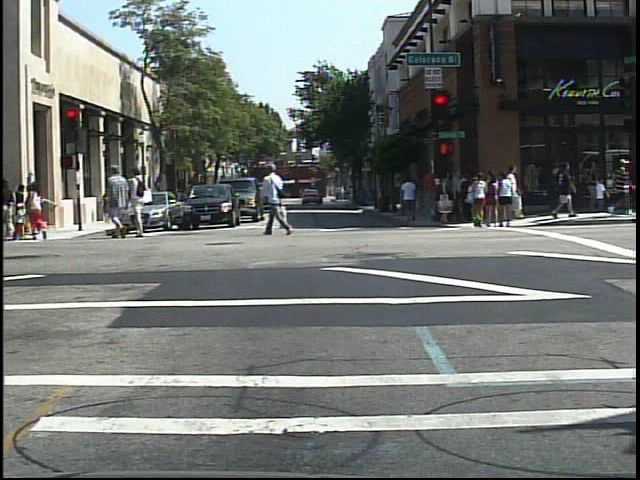person: (260, 159, 293, 238), (605, 156, 636, 220), (105, 162, 129, 239), (26, 175, 52, 243), (130, 166, 154, 239), (3, 173, 19, 245)
